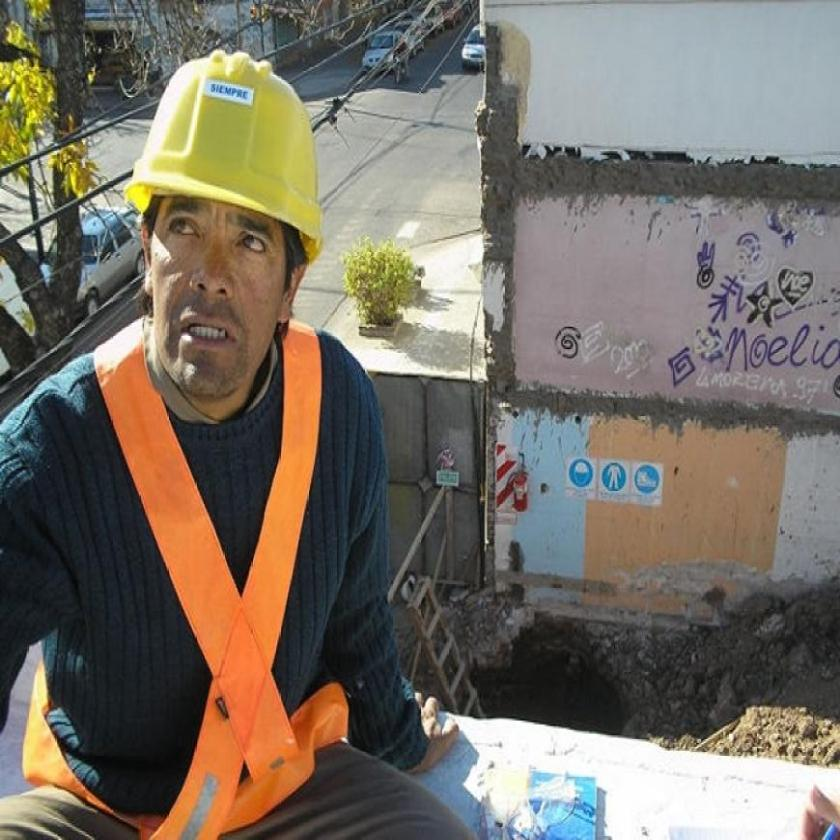Con_casco: (124, 40, 328, 434)
